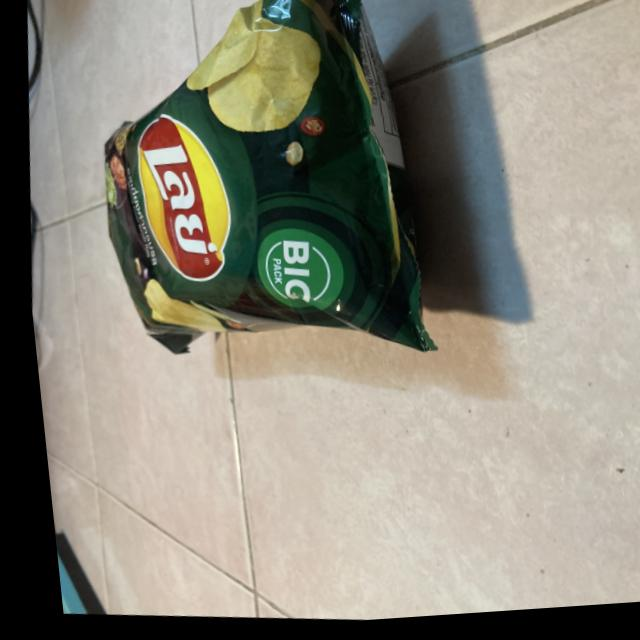Laygreen: (39, 0, 479, 427)
